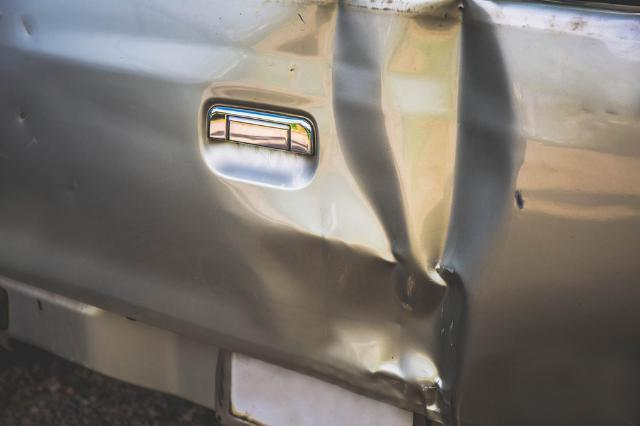dent: (208, 0, 522, 426), (13, 12, 39, 43), (15, 109, 31, 126)
